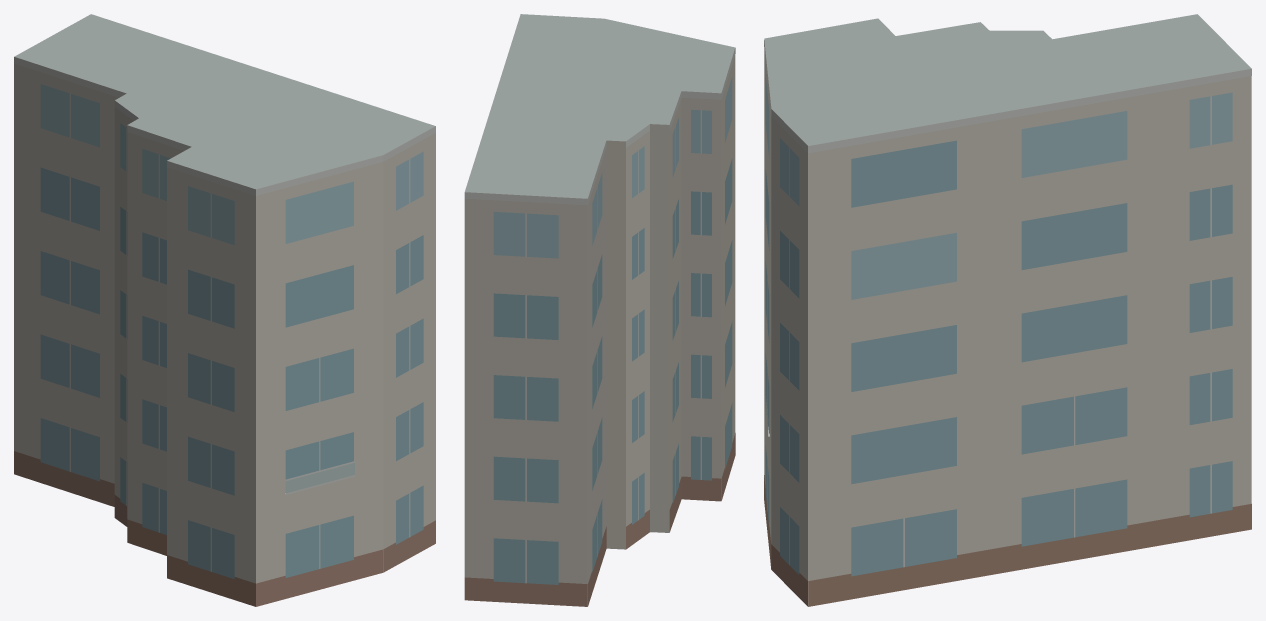
File: survey-upis-32685169.glb
3 renders of one model, left to right at view 1: azimuth 30°, elevation 25°; view 2: azimuth 150°, elevation 25°; view 3: azimuth 270°, elevation 25°, orthographic. The views are drawn at different scales.
Parts seen in each view (by area): view 1: survey-upis-32685169.tmp; view 2: survey-upis-32685169.tmp; view 3: survey-upis-32685169.tmp.
Part boxes in pixels (x1,y1,x2,y2): survey-upis-32685169.tmp: [14, 14, 435, 606]; survey-upis-32685169.tmp: [464, 14, 735, 606]; survey-upis-32685169.tmp: [764, 14, 1251, 606].
Size of the model in its own units: 9.53 by 15.49 by 14.87.
